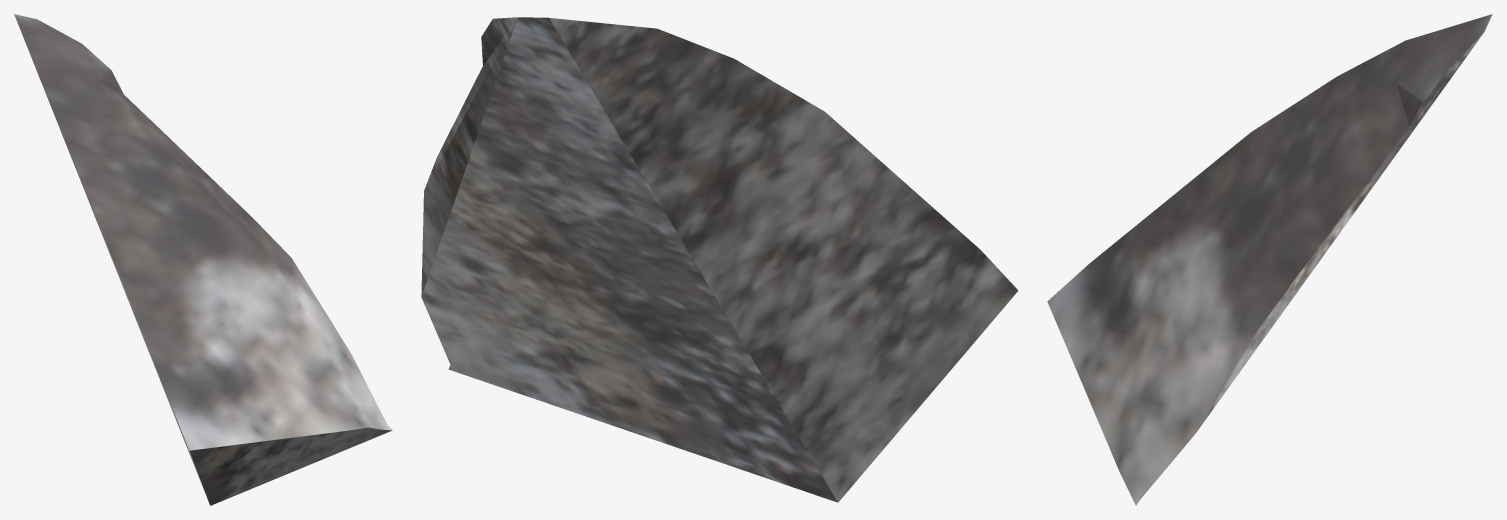
The model's file is Asteroid_Large_001_02_010_03_001.fbx.
3 renders of one model, left to right at view 1: azimuth 30°, elevation 25°; view 2: azimuth 150°, elevation 25°; view 3: azimuth 270°, elevation 25°, orthographic. The views are drawn at different scales.
Visible parts, largest first — view 1: Asteroid_Large_001_02_010_03_001; view 2: Asteroid_Large_001_02_010_03_001; view 3: Asteroid_Large_001_02_010_03_001.
Part boxes in pixels (<box>): Asteroid_Large_001_02_010_03_001: <box>14,14,392,505</box>; Asteroid_Large_001_02_010_03_001: <box>421,17,1018,502</box>; Asteroid_Large_001_02_010_03_001: <box>1047,14,1492,505</box>.
Size of the model in its own units: 3.37 by 4.92 by 4.9.
